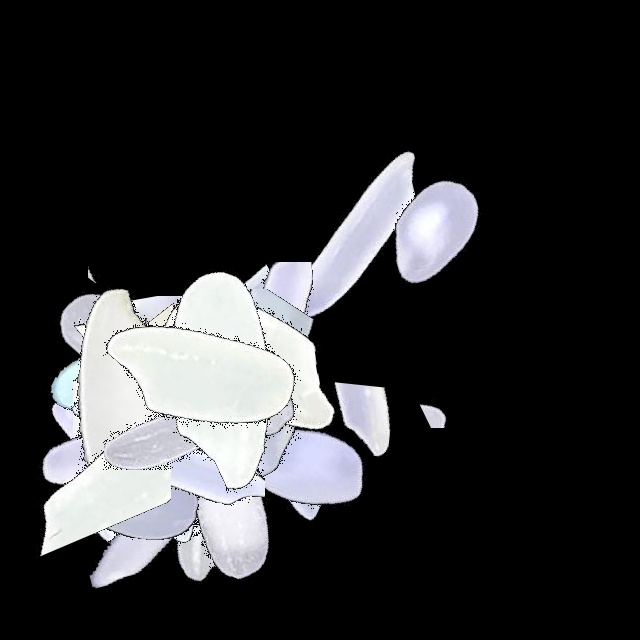Broken: (80, 243, 330, 414), (100, 294, 265, 544), (73, 296, 236, 546), (37, 248, 196, 498), (113, 262, 363, 420), (43, 390, 199, 640), (107, 240, 262, 490), (0, 313, 250, 468), (22, 326, 171, 576), (123, 289, 373, 423), (39, 279, 289, 400), (0, 382, 250, 502), (37, 296, 287, 412), (128, 369, 378, 484), (6, 370, 256, 485), (209, 232, 323, 482), (64, 331, 314, 445), (89, 256, 196, 506), (0, 396, 250, 499), (70, 330, 167, 580), (301, 305, 395, 555), (62, 198, 147, 448), (88, 133, 163, 383), (329, 353, 579, 428)
Full: (136, 312, 386, 562), (0, 215, 250, 465), (112, 238, 362, 488), (224, 112, 474, 362), (85, 388, 335, 638), (190, 347, 440, 597), (2, 377, 252, 627), (0, 343, 250, 593), (0, 261, 250, 511), (103, 283, 353, 533), (0, 306, 250, 556), (114, 318, 364, 568), (103, 387, 353, 637), (13, 376, 263, 626), (30, 249, 280, 499), (0, 241, 250, 491), (0, 315, 250, 565), (59, 249, 309, 499), (44, 245, 294, 495), (124, 239, 374, 489), (0, 266, 250, 516), (118, 253, 368, 503), (46, 310, 296, 560), (312, 106, 562, 356), (98, 254, 348, 504), (74, 243, 324, 493)
